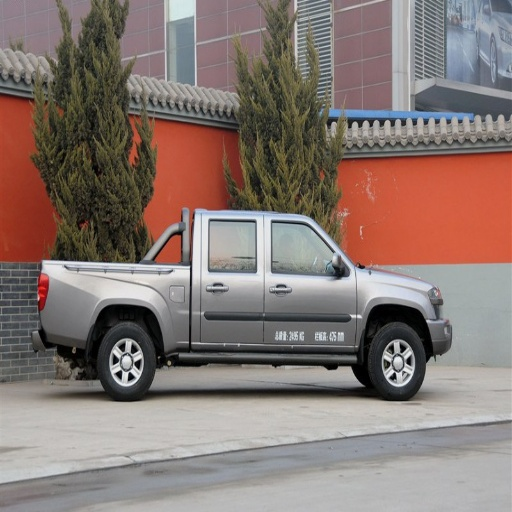back_left_light: (193, 214, 266, 342)
front_left_light: (263, 216, 357, 346)
tailgate: (43, 265, 189, 349)
trunk: (367, 322, 426, 400), (96, 321, 154, 400)
